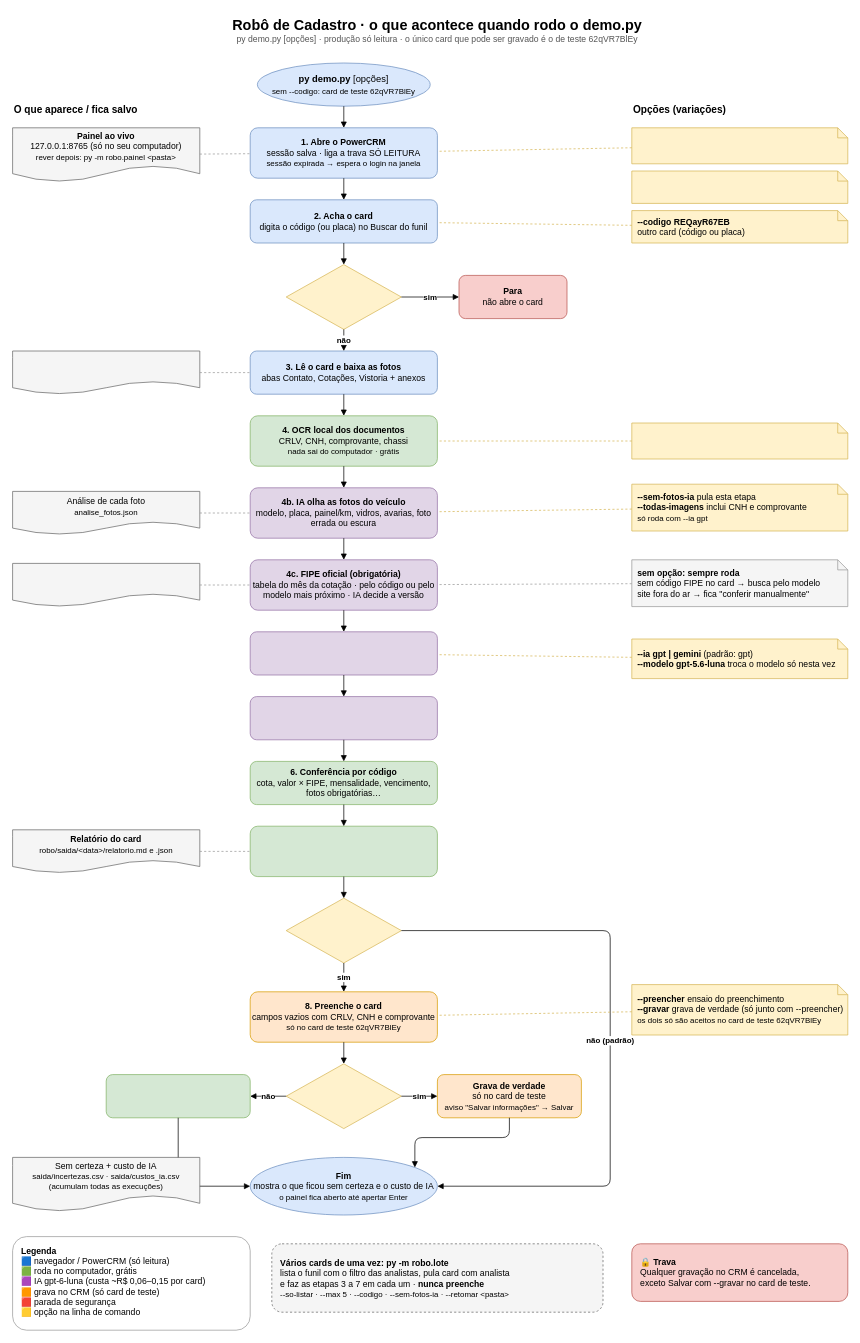
This 860x1343 diagram has some shape labels left out. The centre of each missing label's shape, as x and y in pixels:
"--gravar?" goes at pixel 343 1096.
"--login-automatico sessão expirada: entra com o login do .env" goes at pixel 739 145.
"--preencher?" goes at pixel 343 930.
"--sem-ocr pula o OCR (mais rápido, sem conferir documentos)" goes at pixel 739 440.
"--sem-painel não abre o painel no navegador" goes at pixel 739 186.
"5. IA decide a tabela do CRM regras + tabela de aceitação (só dados do veículo)" goes at pixel 343 653.
"5b. IA compara documentos × card texto do OCR, sem nome e CPF" goes at pixel 343 718.
"7. Veredito ✅ OK · ⚠️ VERIFICAR · ❌ DIVERGENTE nada foi alterado no CRM" goes at pixel 343 851.
"Card tem tag de analista?" goes at pixel 343 296.
"Consulta FIPE com autenticação fipe.json" goes at pixel 106 585.
"Ensaio digita e clica Salvar, a trava bloqueia: nada grava" goes at pixel 177 1096.
"Fotos e anexos do card testes/amostras/<placa>" goes at pixel 106 372.
